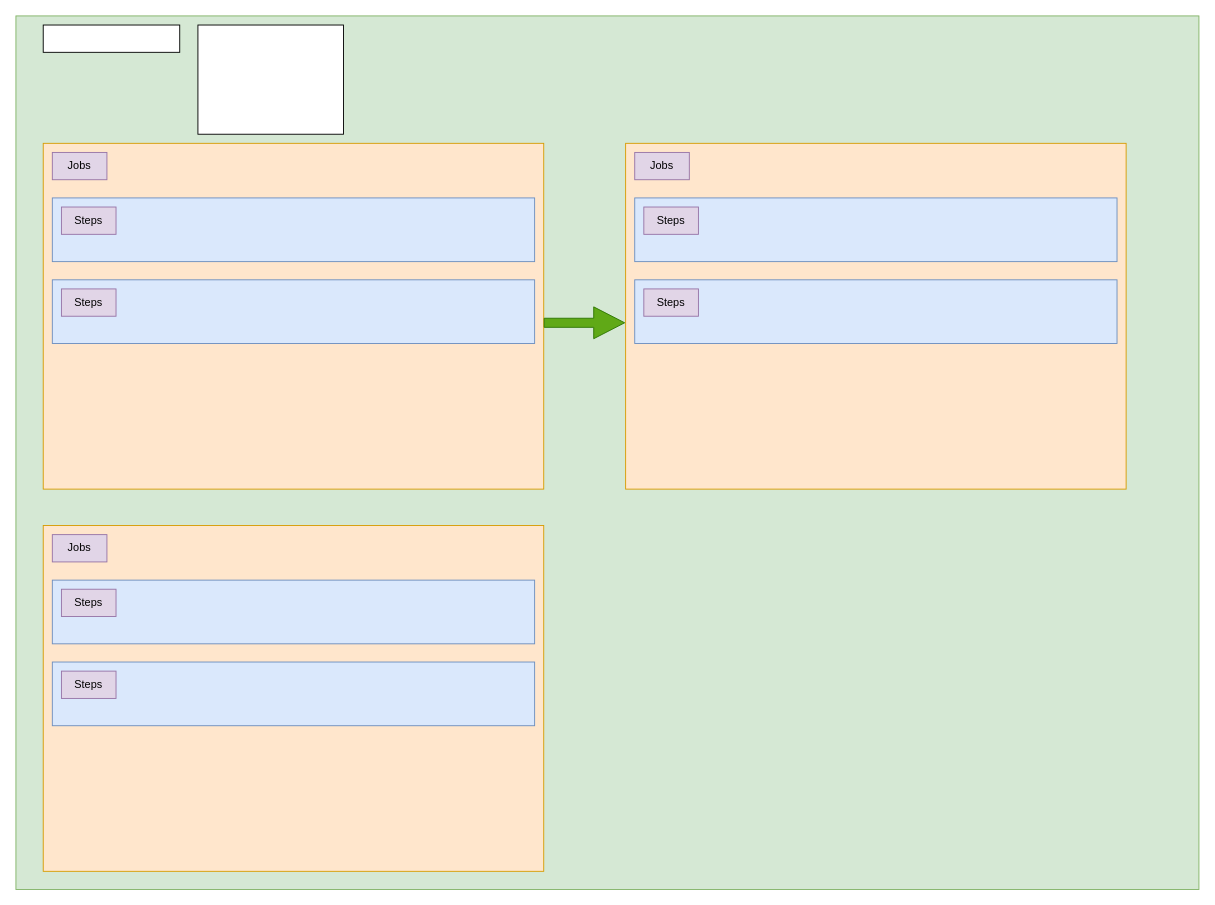
This 1215x905 diagram has some shape labels left out. Here are the shapes that lost their labels. From the top down, the centre of each, then its label:
At [111,38]: "Github Action - Workflow".
At [270,79]: "Triggers: push pull request cron (time activated) on request".
